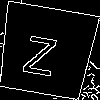Z: (21, 26, 59, 77)
